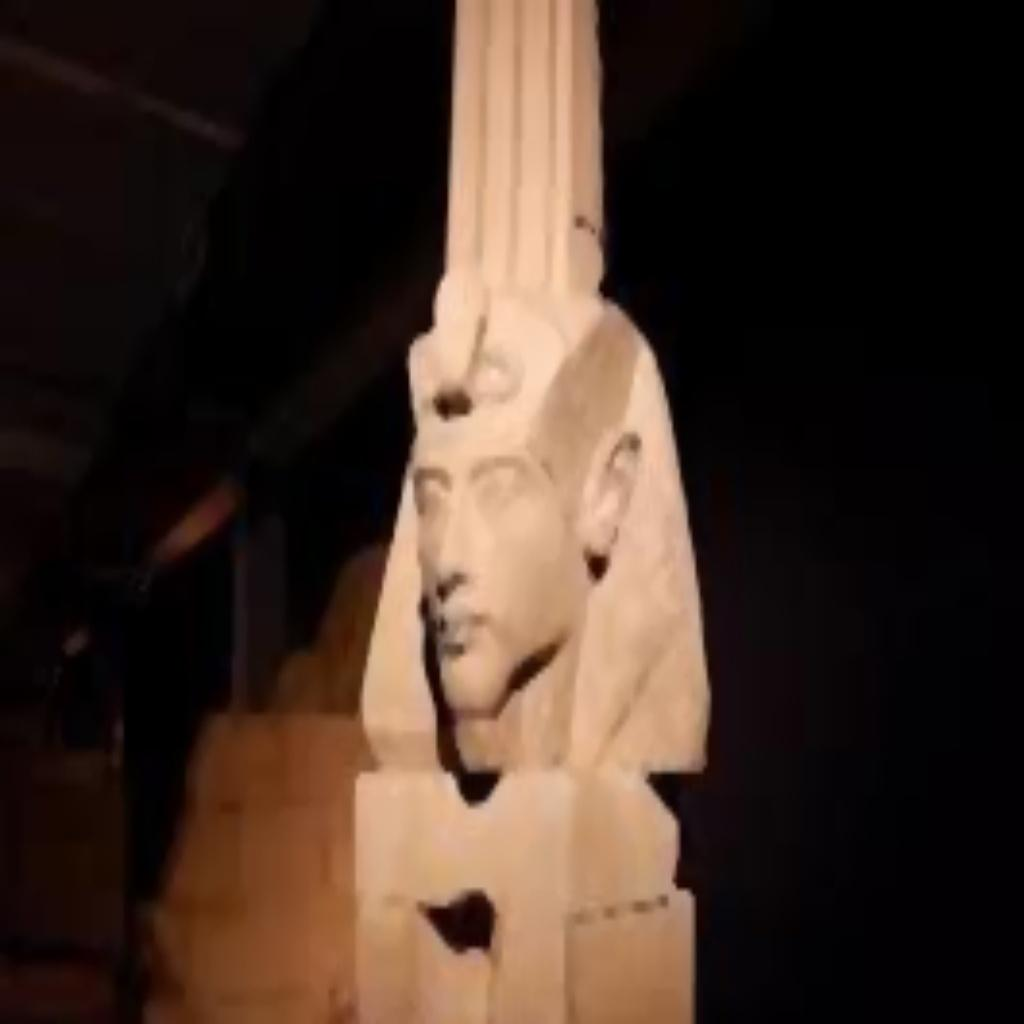Akhenaten: (352, 256, 720, 789)
